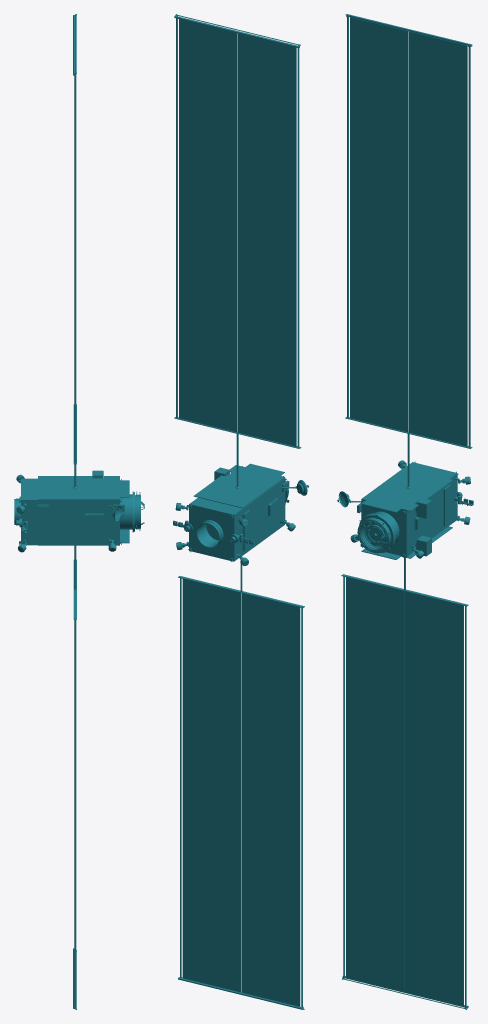
File: Power_And_Propulsion_Element.FBX
The picture shows the model from 3 angles, left to right: view 1: azimuth 90°, elevation 25°; view 2: azimuth 150°, elevation 25°; view 3: azimuth 330°, elevation 25°; orthographic projection. The views are drawn at different scales.
Parts seen in each view (by area): view 1: PAPE_Main, PAPE_Plate01, PAPE_SolarPanel01, PAPE_SolarPanel02, PAPE_Container05; view 2: PAPE_SolarPanel01, PAPE_SolarPanel02, PAPE_Main, PAPE_Plate01; view 3: PAPE_SolarPanel01, PAPE_SolarPanel02, PAPE_Main, PAPE_Plate01, PAPE_Connector01_Main01.
Boxes of the visible parts, x1,y1,x2,y2 form: PAPE_Main: [14, 478, 134, 545]; PAPE_Plate01: [38, 476, 129, 499]; PAPE_SolarPanel01: [73, 14, 77, 488]; PAPE_SolarPanel02: [73, 545, 76, 1009]; PAPE_Container05: [36, 504, 49, 541]; PAPE_SolarPanel01: [174, 14, 301, 488]; PAPE_SolarPanel02: [178, 556, 304, 1009]; PAPE_Main: [189, 478, 287, 561]; PAPE_Plate01: [193, 463, 284, 508]; PAPE_SolarPanel01: [345, 14, 472, 488]; PAPE_SolarPanel02: [341, 557, 468, 1009]; PAPE_Main: [359, 462, 457, 556]; PAPE_Plate01: [361, 468, 452, 512]; PAPE_Connector01_Main01: [360, 522, 385, 549].
Bounding box in the file's own units: 646 × 4616 × 584.
